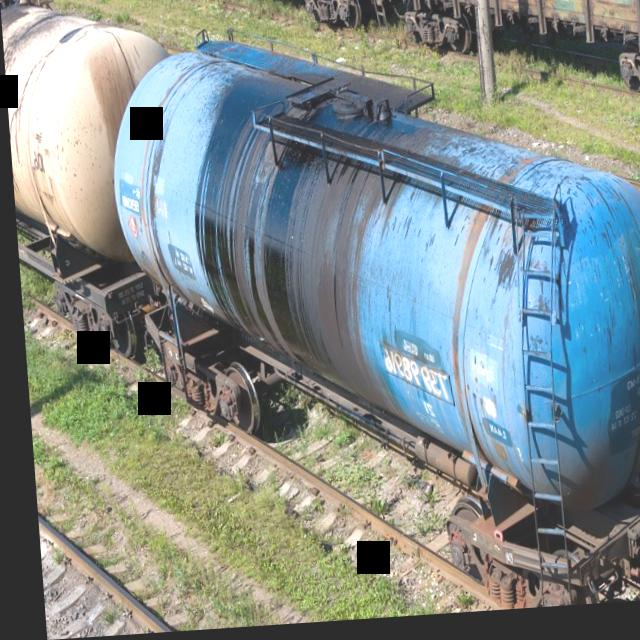tank: (90, 0, 640, 635), (0, 0, 181, 343), (608, 271, 640, 608)
